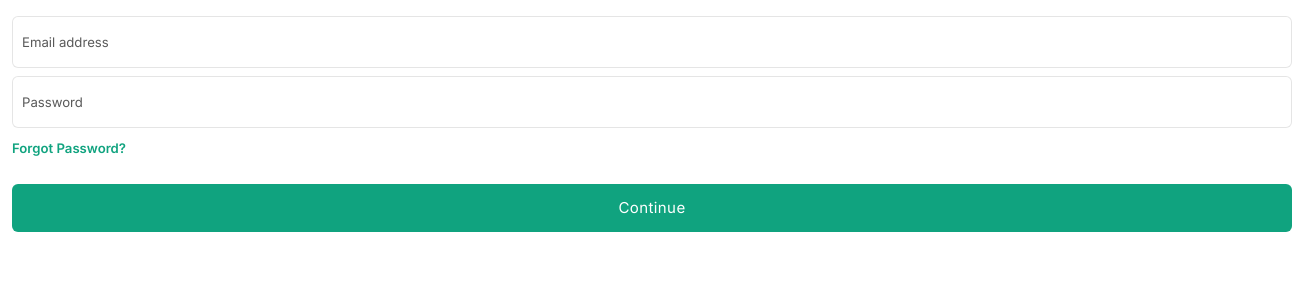
it: displays validation error messages
The width and height of the screenshot is (1304, 297).
Step 1. Type "test" into the field labelled "Email address" → (652, 42), box [12, 16, 1292, 68]
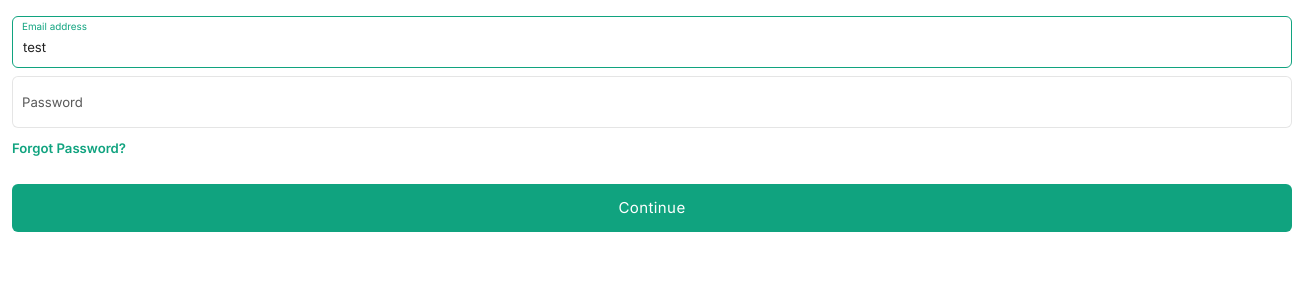
Step 2. Type "pass" into the password field labelled "Password" → (652, 102), box [12, 76, 1292, 128]
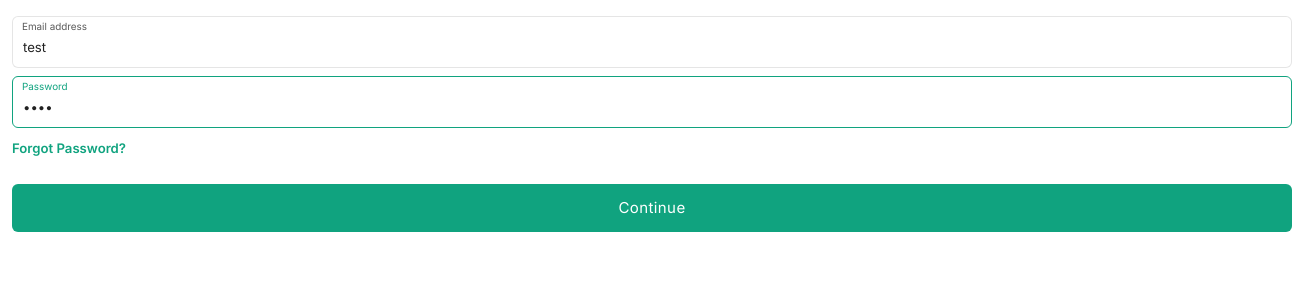
Step 3. Click the button named "Sign in" → (652, 208), box [12, 184, 1292, 232]
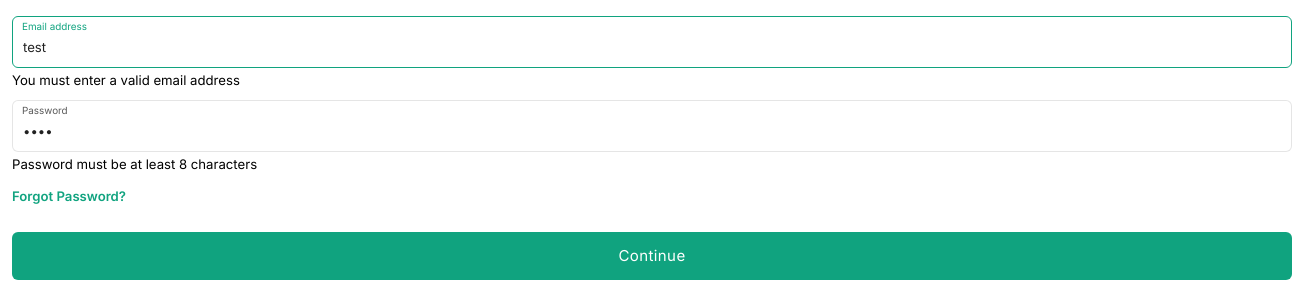
Now the text "You must enter a valid email address" is shown, box [12, 72, 240, 88]
Now the text "Password must be at least 8 characters" is shown, box [12, 156, 257, 172]
